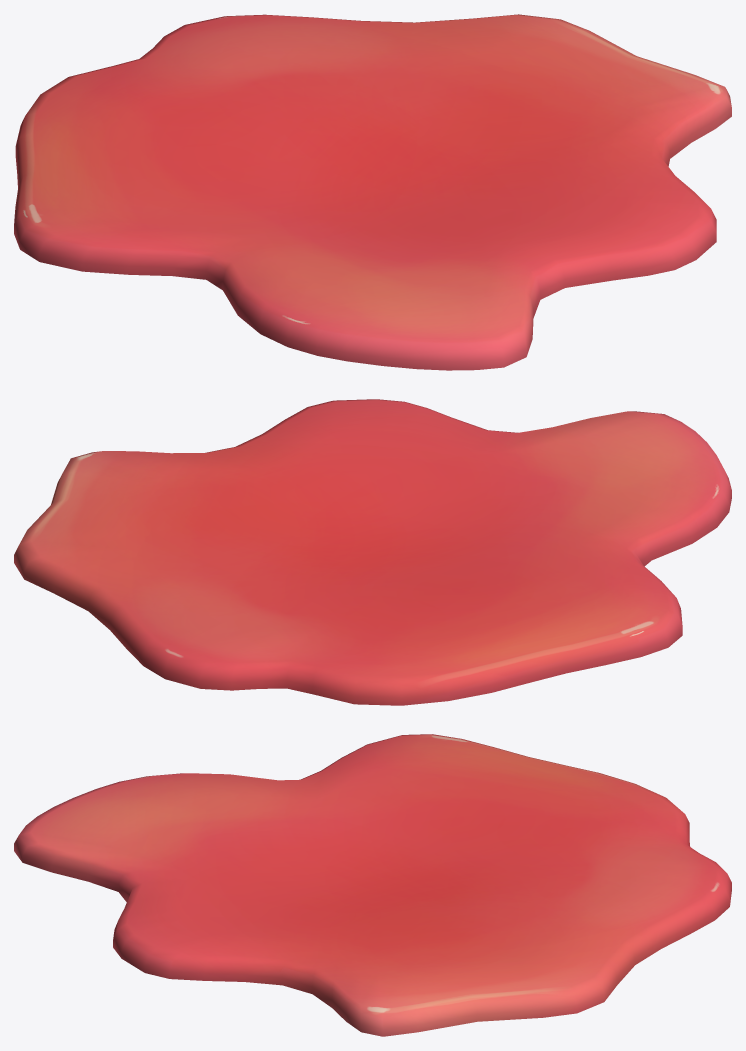
Rendered from Pirate_puddle.fbx.
The picture shows the model from 3 angles, top to bottom: view 1: azimuth 30°, elevation 25°; view 2: azimuth 150°, elevation 25°; view 3: azimuth 270°, elevation 25°; orthographic projection. The views are drawn at different scales.
Visible parts, largest first — view 1: Prirate_puddle; view 2: Prirate_puddle; view 3: Prirate_puddle.
Boxes of the visible parts, x1,y1,x2,y2 form: Prirate_puddle: (14, 14, 731, 370); Prirate_puddle: (14, 399, 731, 705); Prirate_puddle: (14, 734, 731, 1036).
Bounding box in the file's own units: 217 × 7.08 × 228.
1 material, 1 textured.
